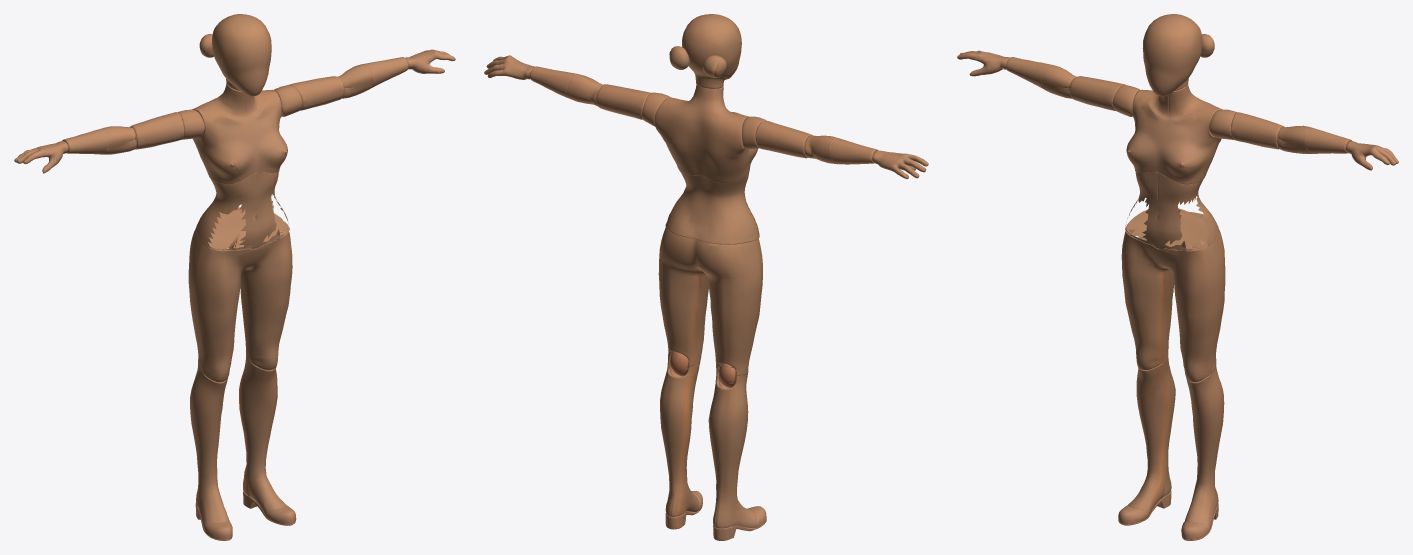
Rendered from toonstudio_female_5head.glb.
3 views of the same model, side by side, from view 1: azimuth 30°, elevation 25°; view 2: azimuth 150°, elevation 25°; view 3: azimuth 330°, elevation 25° (orthographic).
Visible parts, largest first — view 1: tripo_2c6701c5_b00f_47a3_854a_7b81c388996e; view 2: tripo_2c6701c5_b00f_47a3_854a_7b81c388996e; view 3: tripo_2c6701c5_b00f_47a3_854a_7b81c388996e.
Part boxes in pixels (x1,y1,x2,y2): tripo_2c6701c5_b00f_47a3_854a_7b81c388996e: (14,14,455,540); tripo_2c6701c5_b00f_47a3_854a_7b81c388996e: (484,14,928,540); tripo_2c6701c5_b00f_47a3_854a_7b81c388996e: (957,14,1398,540).
Size of the model in its own units: 1.55 by 1.7 by 0.2317.
1 material, 1 textured.
